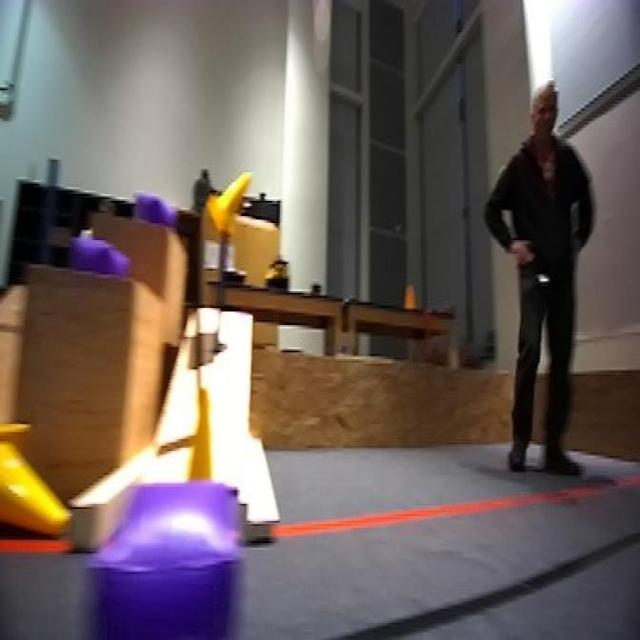frc_cone: (170, 383, 246, 534), (0, 420, 81, 555), (205, 164, 257, 238)
frc_cube: (68, 471, 254, 640), (66, 230, 135, 282), (132, 187, 168, 225)
